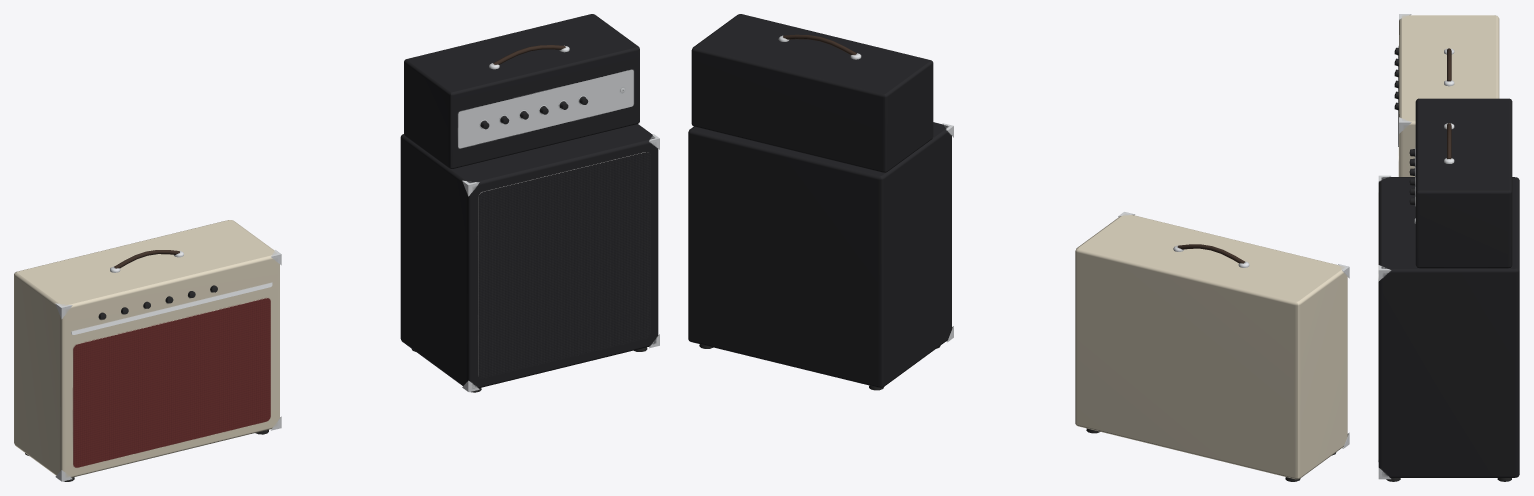
File: ska_amps.glb
3 views of the same model, side by side, from view 1: azimuth 30°, elevation 25°; view 2: azimuth 150°, elevation 25°; view 3: azimuth 270°, elevation 25° (orthographic). The views are drawn at different scales.
Parts seen in each view (by area): view 1: amp_cab, amp_combo, amp_head; view 2: amp_combo, amp_cab, amp_head; view 3: amp_cab, amp_head, amp_combo.
Boxes of the visible parts, x1,y1,x2,y2 form: amp_cab: (400,124,659,392); amp_combo: (14,220,281,481); amp_head: (404,14,639,168); amp_combo: (1075,212,1349,481); amp_cab: (688,122,953,390); amp_head: (691,14,933,172); amp_cab: (1378,175,1519,481); amp_head: (1409,98,1512,268); amp_combo: (1394,14,1499,176).
Size of the model in its own units: 1.85 by 0.9052 by 0.381.
1 material, 1 textured.
